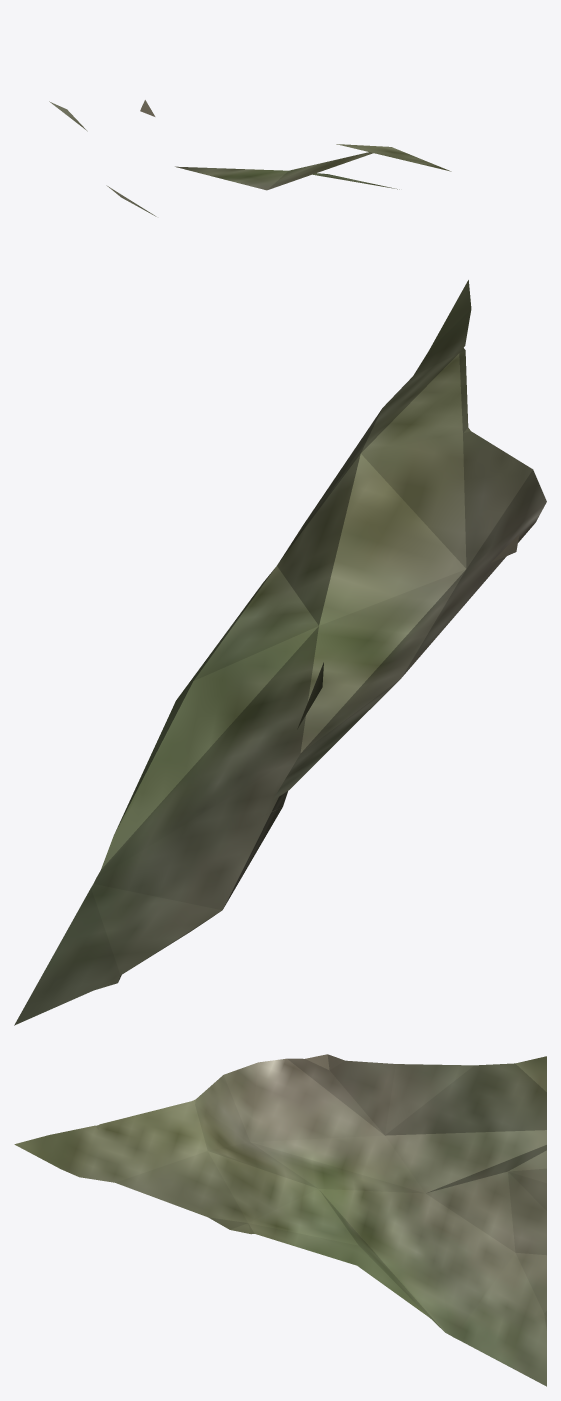
3 renders of one model, top to bottom at view 1: azimuth 30°, elevation 25°; view 2: azimuth 150°, elevation 25°; view 3: azimuth 270°, elevation 25°, orthographic. The views are drawn at different scales.
Size of the model in its own units: 0.4552 by 0.5708 by 1.14.
1 material, 1 textured.
